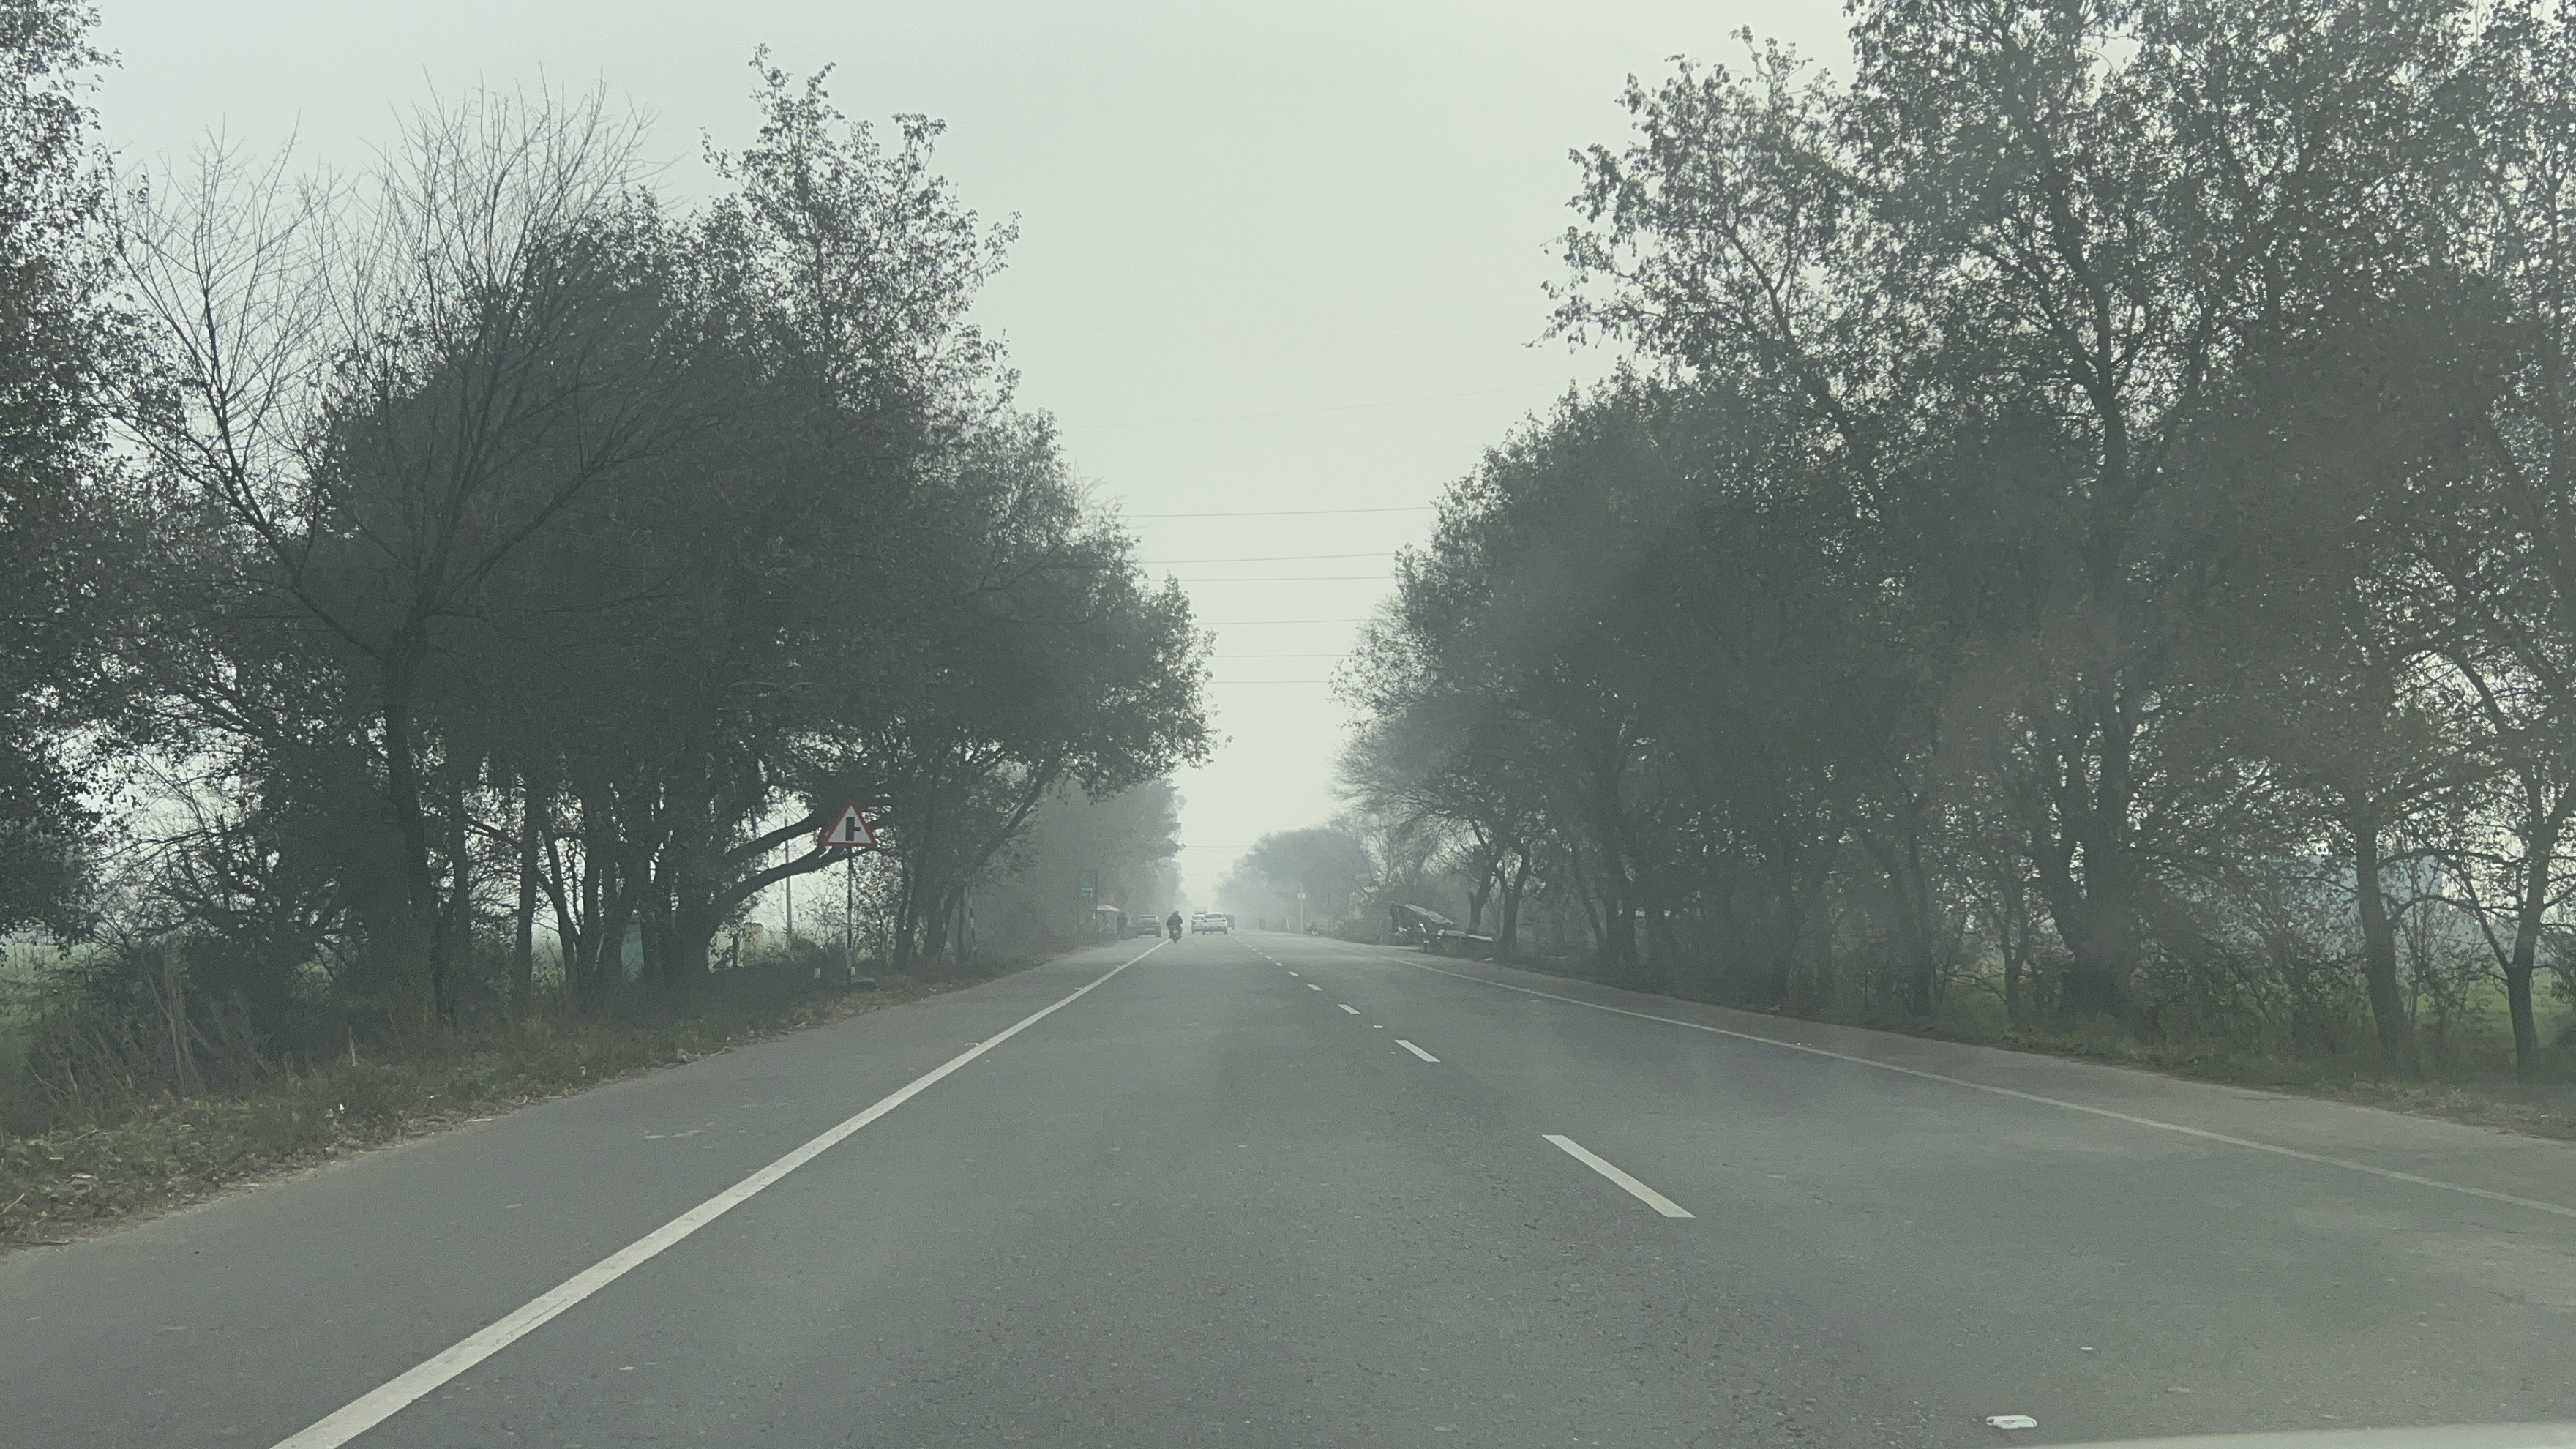Warning: (817, 789, 888, 858)
